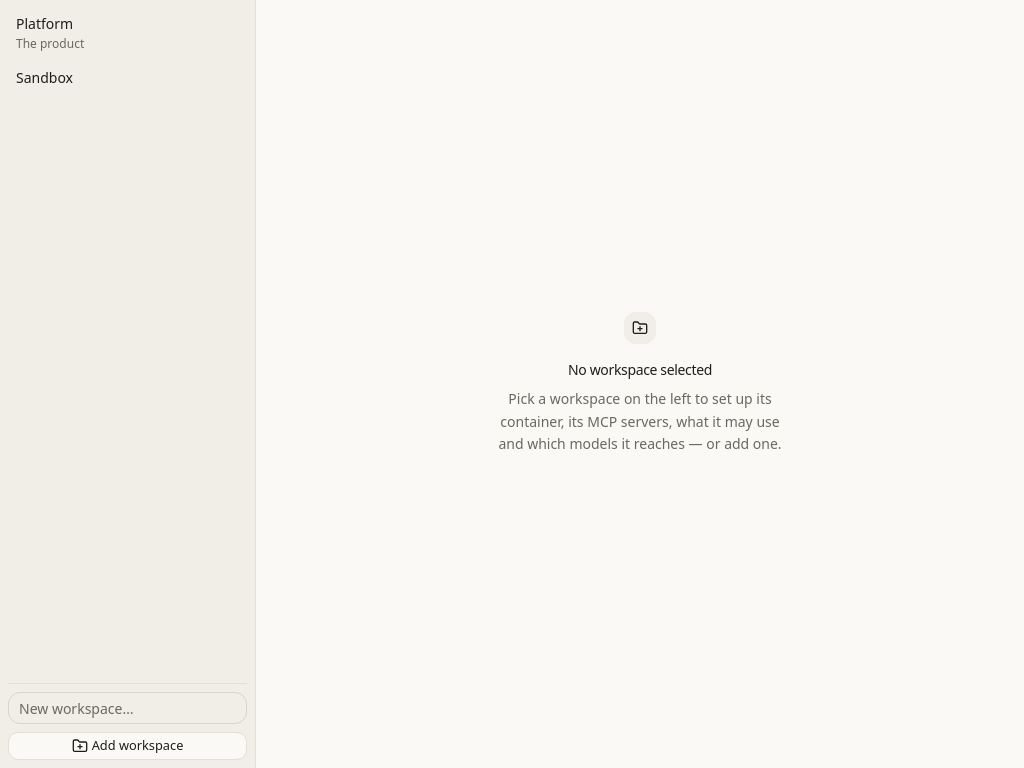
WorkspacesPage › starts the next workspace on its overview rather than on the previous one’s tab
Click the button "Platform The product" at (128, 33), box [8,8,247,58]
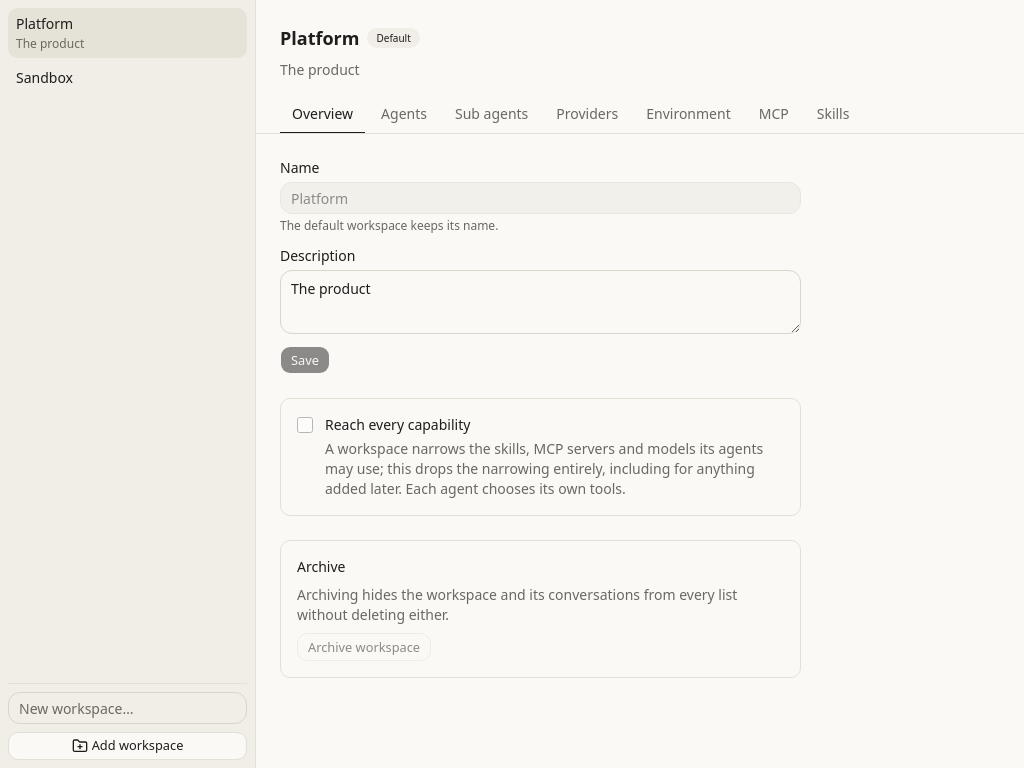
Click the tab "Providers" at (587, 115), box [544,96,630,134]
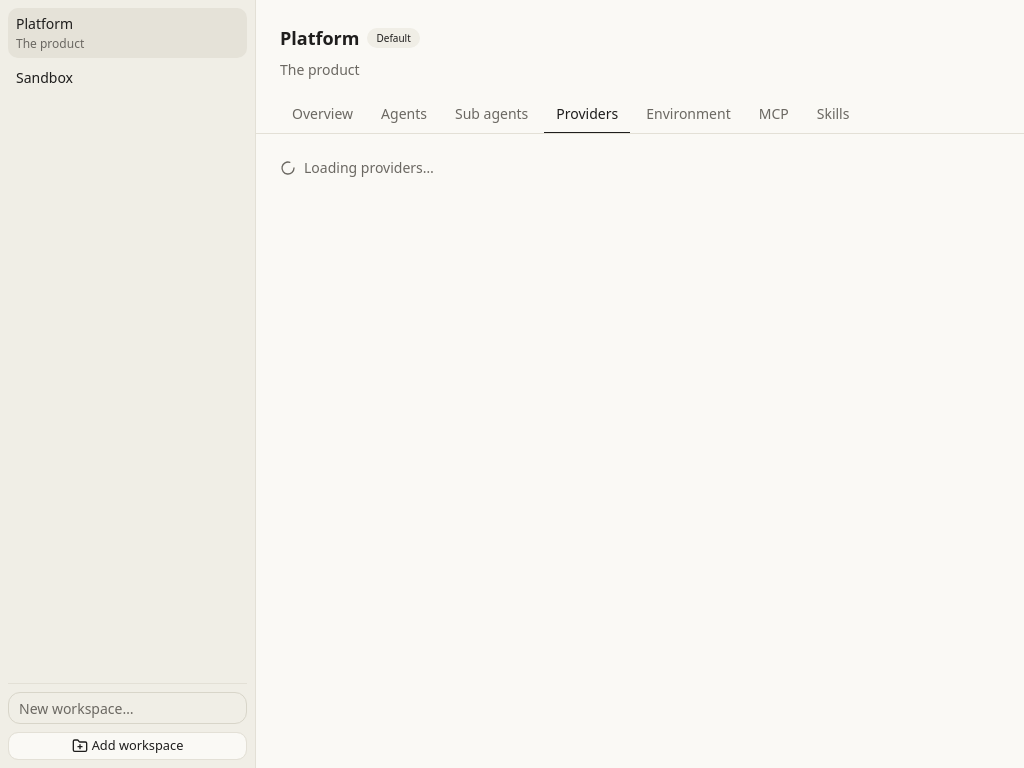
Click the button "Sandbox" at (128, 78), box [8,62,247,94]
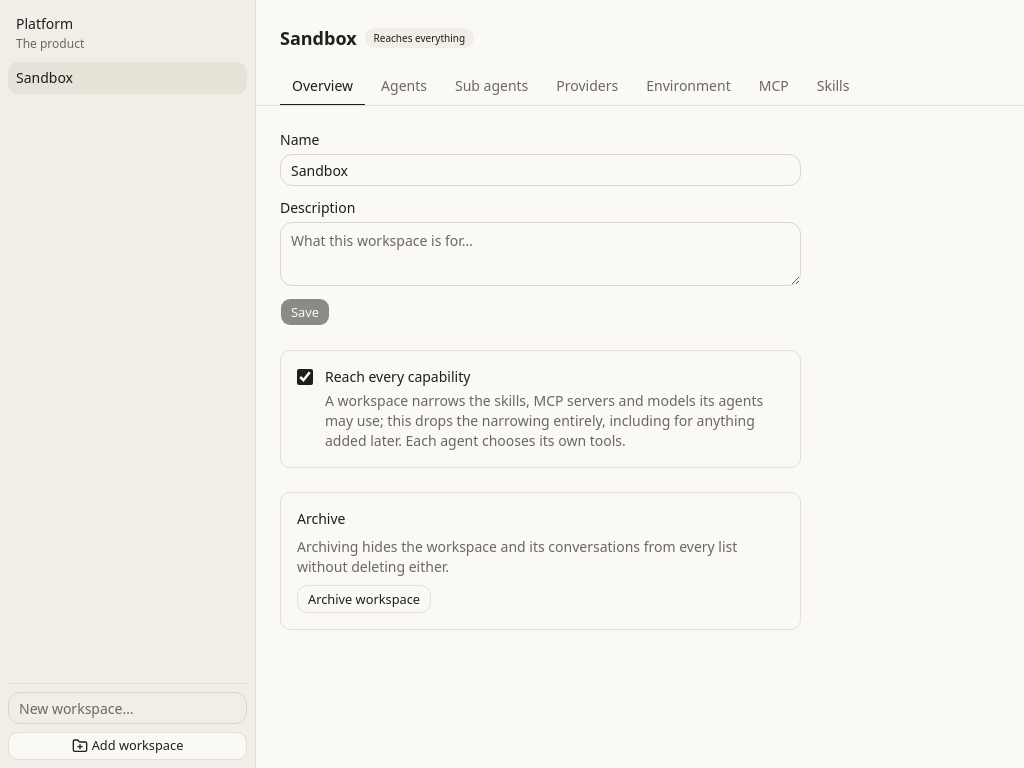
Expected: the element named "sandbox settings" is shown, [256,68,1023,106]
